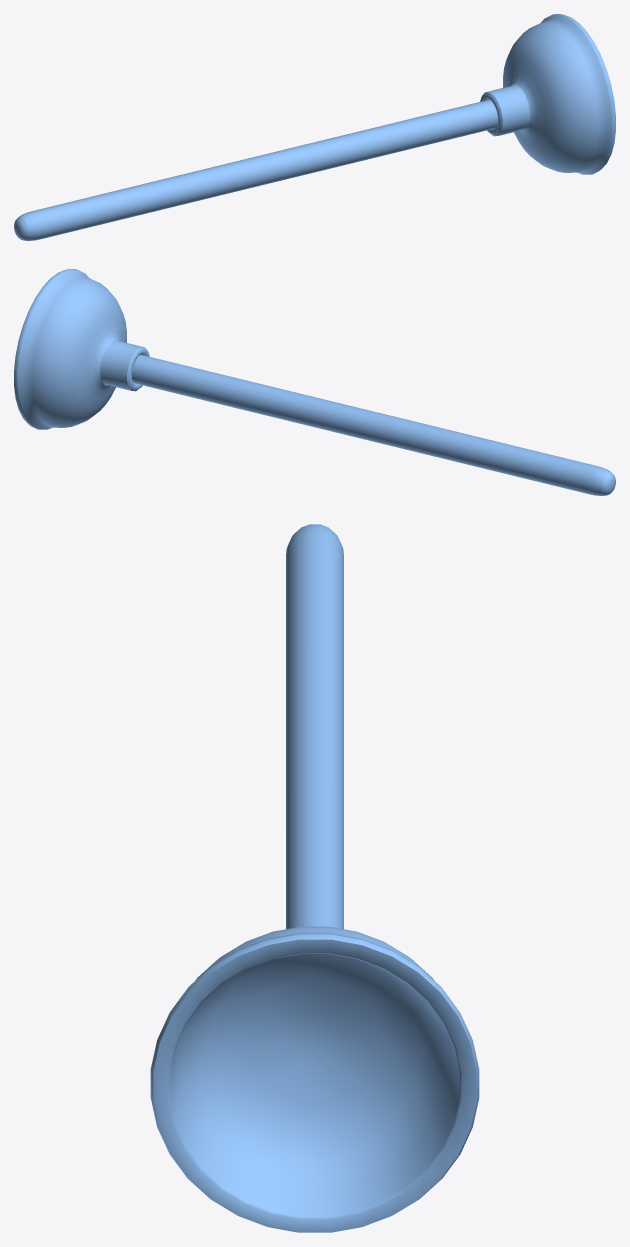
The model's file is plunger.FBX.fbx.
3 renders of one model, top to bottom at view 1: azimuth 30°, elevation 25°; view 2: azimuth 150°, elevation 25°; view 3: azimuth 270°, elevation 25°, orthographic. The views are drawn at different scales.
Parts seen in each view (by area): view 1: LowPoly; view 2: LowPoly; view 3: LowPoly.
Part boxes in pixels (bbox=[...]): LowPoly: bbox=[14, 14, 615, 240]; LowPoly: bbox=[14, 269, 615, 495]; LowPoly: bbox=[150, 524, 479, 1232].
Bounding box in the file's own units: 214 × 54.48 × 54.48.
